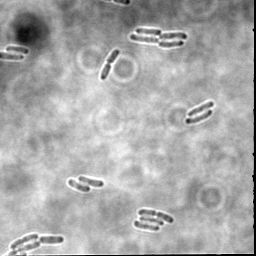Dividing: (99, 48, 120, 81), (137, 208, 174, 224), (8, 233, 39, 251)
Microcolony: (129, 28, 188, 50)
Rod: (185, 99, 215, 119), (184, 108, 213, 125), (66, 177, 91, 194), (77, 175, 106, 189), (132, 220, 160, 232), (38, 234, 65, 246), (138, 216, 164, 227), (5, 44, 30, 55), (1, 52, 25, 61)
